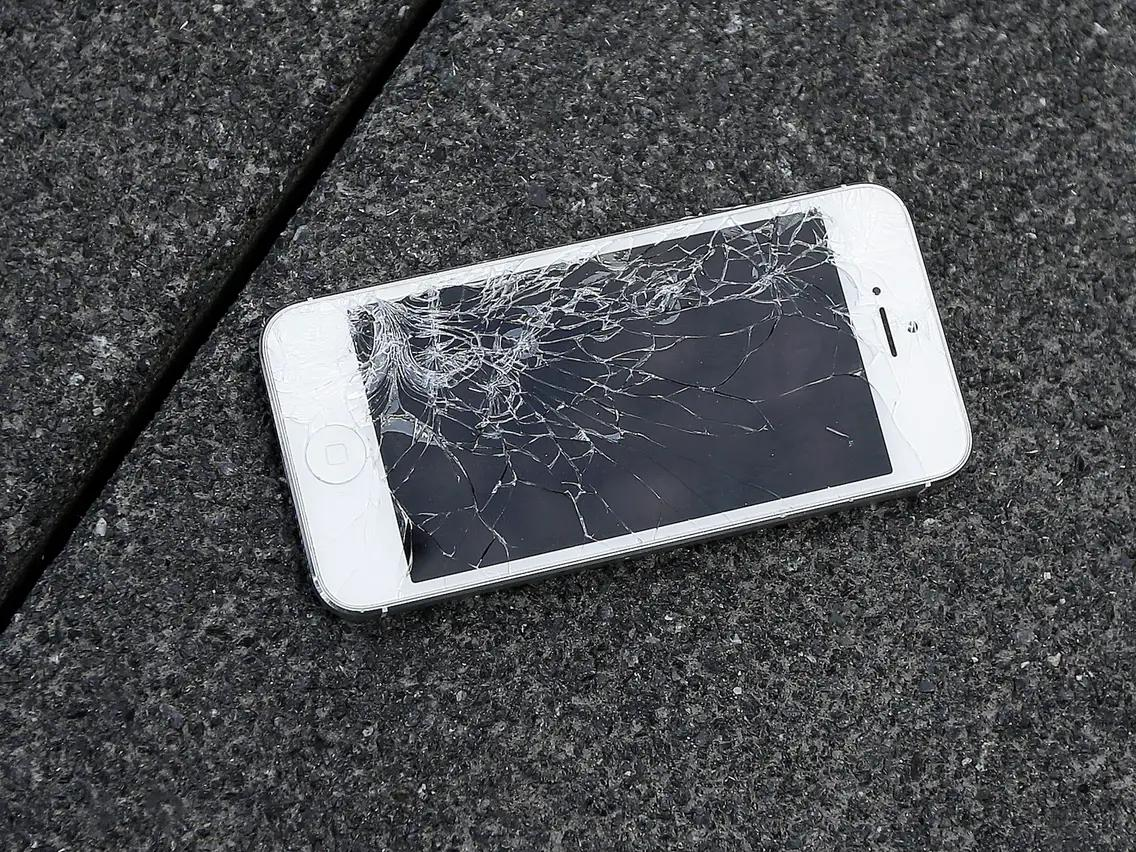Crack: (486, 185, 935, 672), (251, 269, 530, 615)
